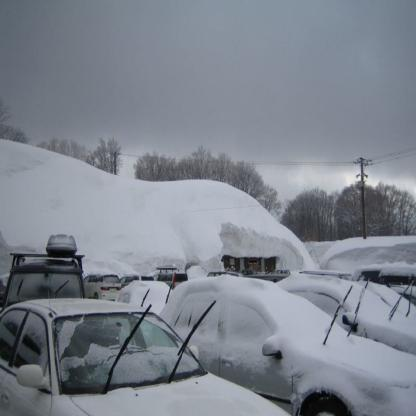Car: (1, 286, 294, 416), (148, 279, 416, 416), (277, 273, 416, 355), (2, 255, 87, 312), (84, 274, 124, 301)
